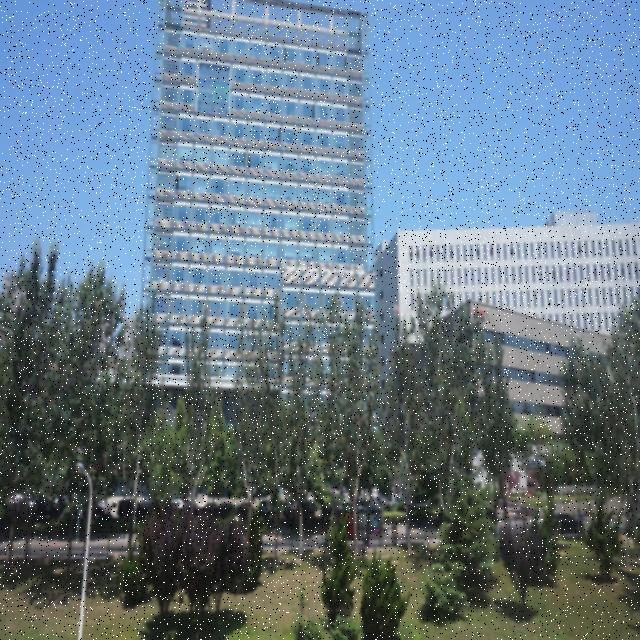UAV: (392, 304, 402, 318)
